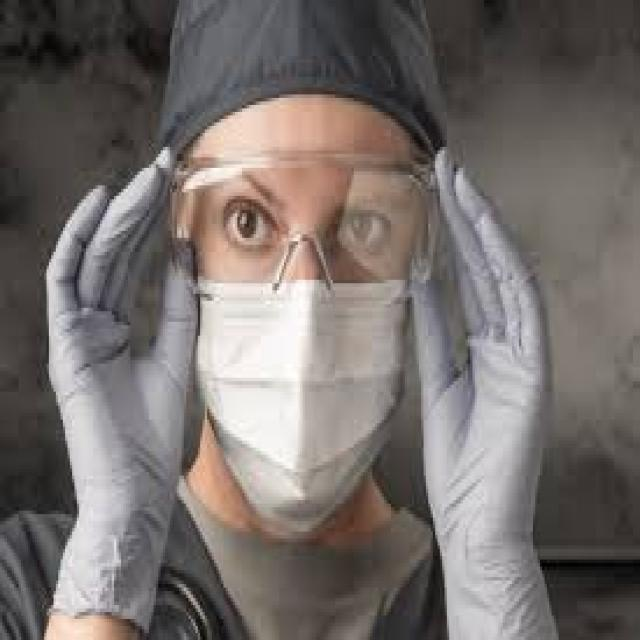oculos-epi: (168, 154, 442, 314)
